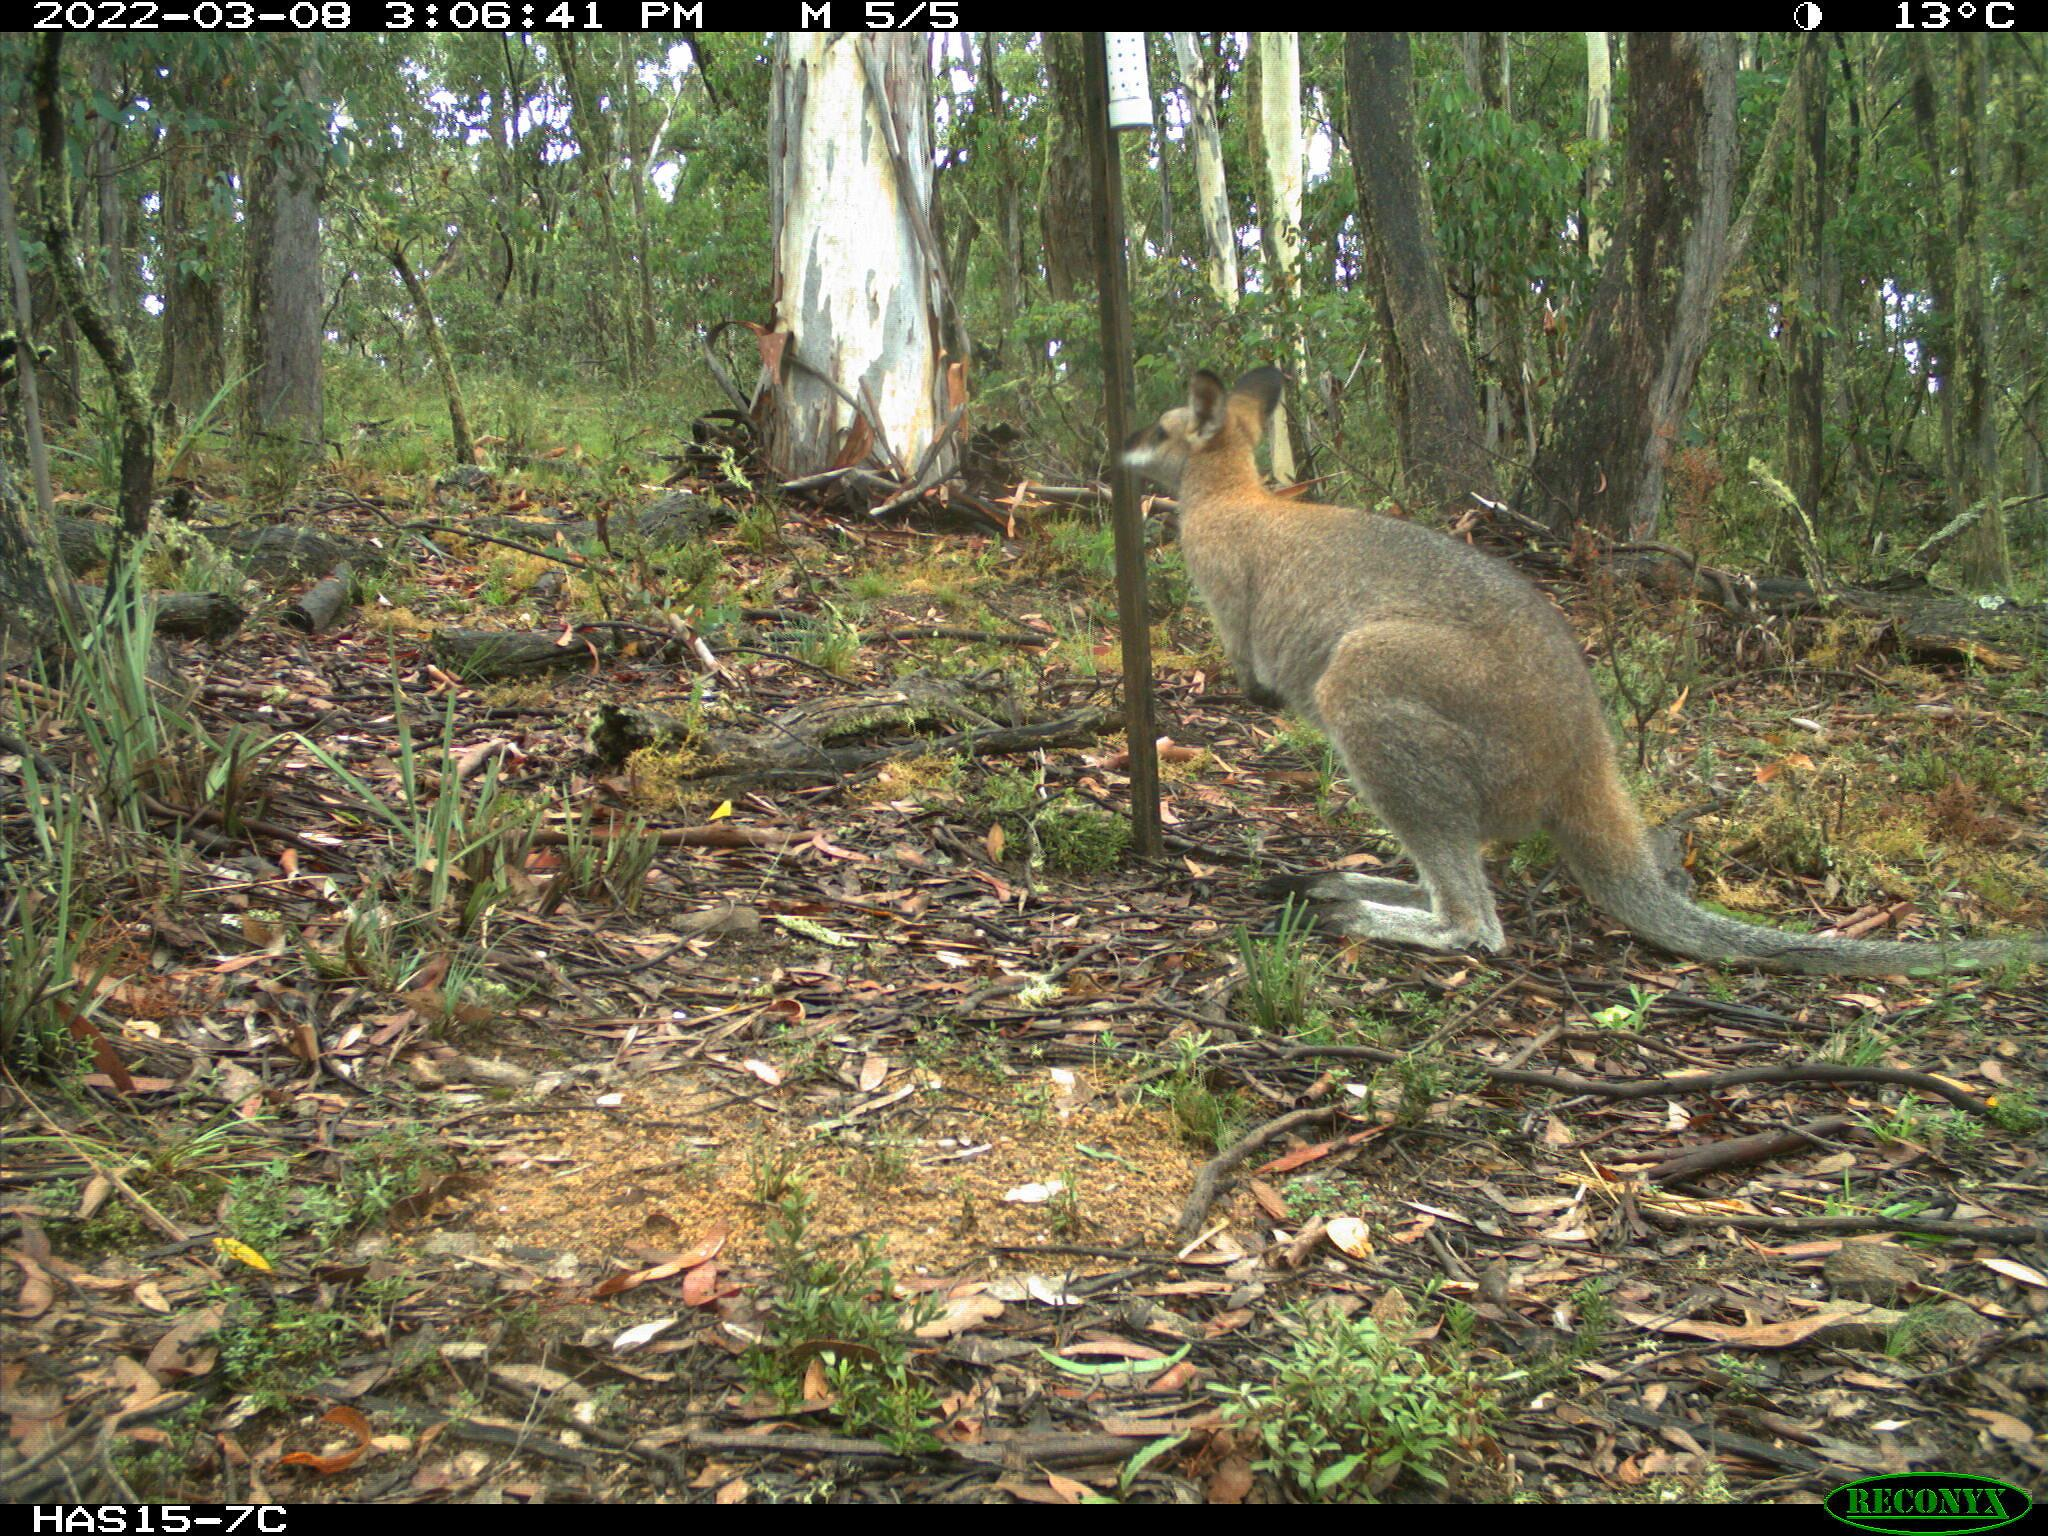Red-necked wallaby: (1108, 366, 2048, 971)
